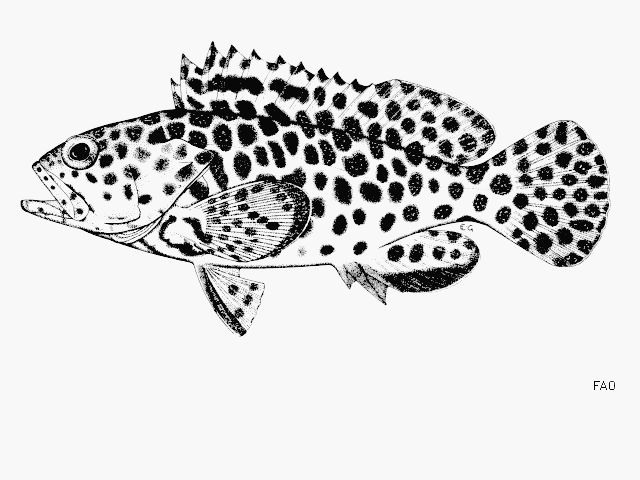fish: (19, 40, 612, 336)
